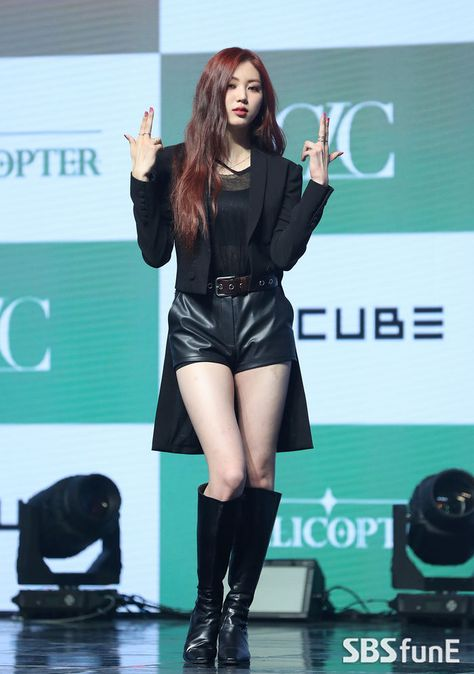person: (121, 35, 348, 668)
